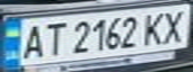1: (90, 16, 109, 52)
2: (118, 12, 142, 50), (69, 17, 93, 55)
6: (106, 15, 127, 52)
A: (18, 21, 48, 60)
K: (139, 9, 169, 46)
T: (39, 19, 66, 57)
X: (157, 7, 190, 44)
